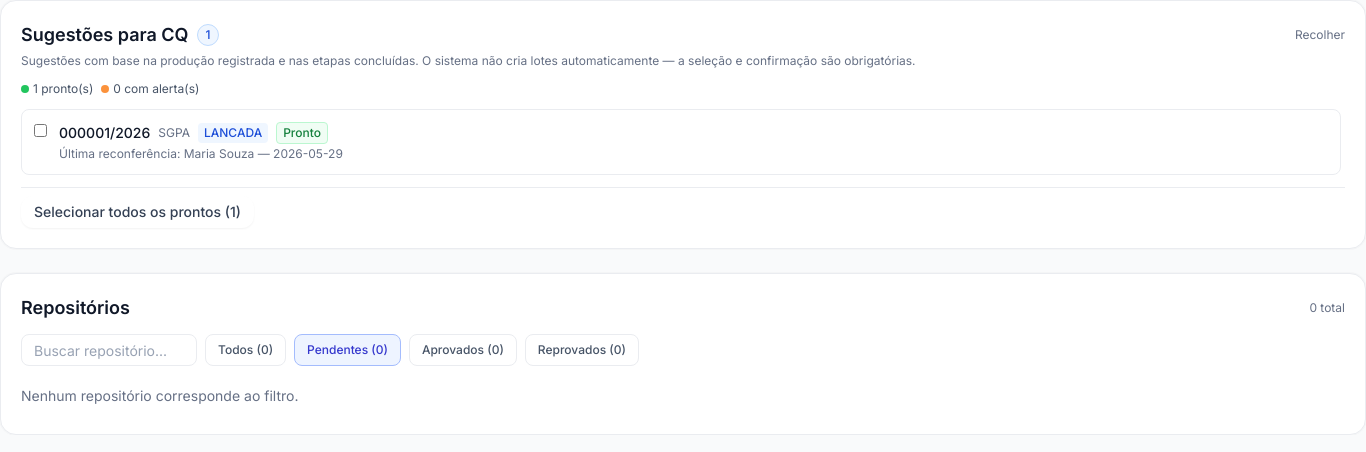
Test case: ControleQualidadePanel — Sugestões para CQ (A4) › checkbox permite selecionar e desselecionar repositório
Click the checkbox at {"x": 40, "y": 130}, box [34, 124, 47, 137]
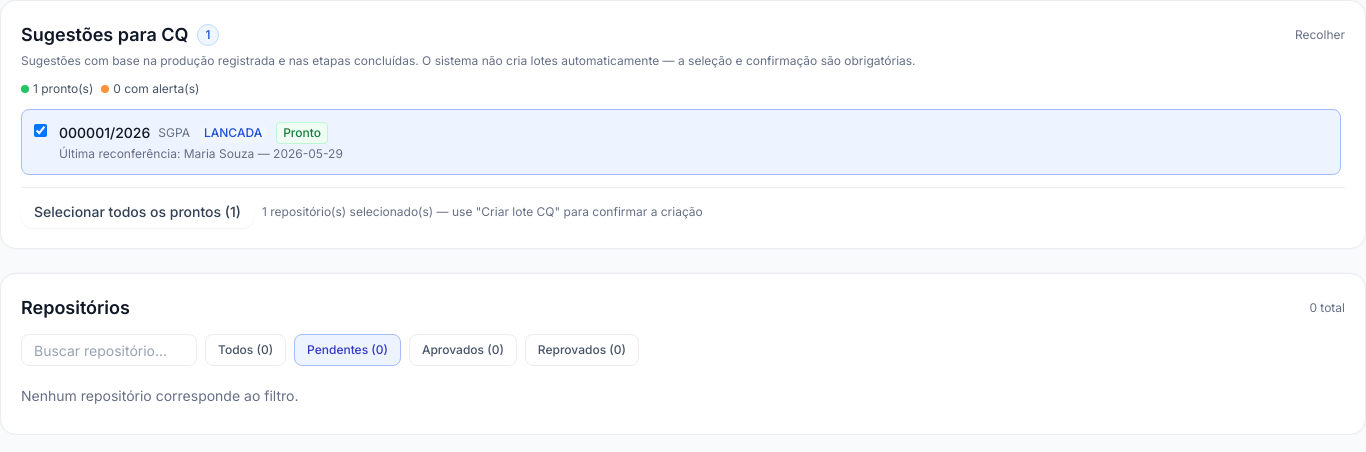
Expected: the checkbox is checked, [34, 124, 47, 137]
Expected: the text "1 repositório(s) selecionado(s)" is shown, [262, 204, 703, 220]
